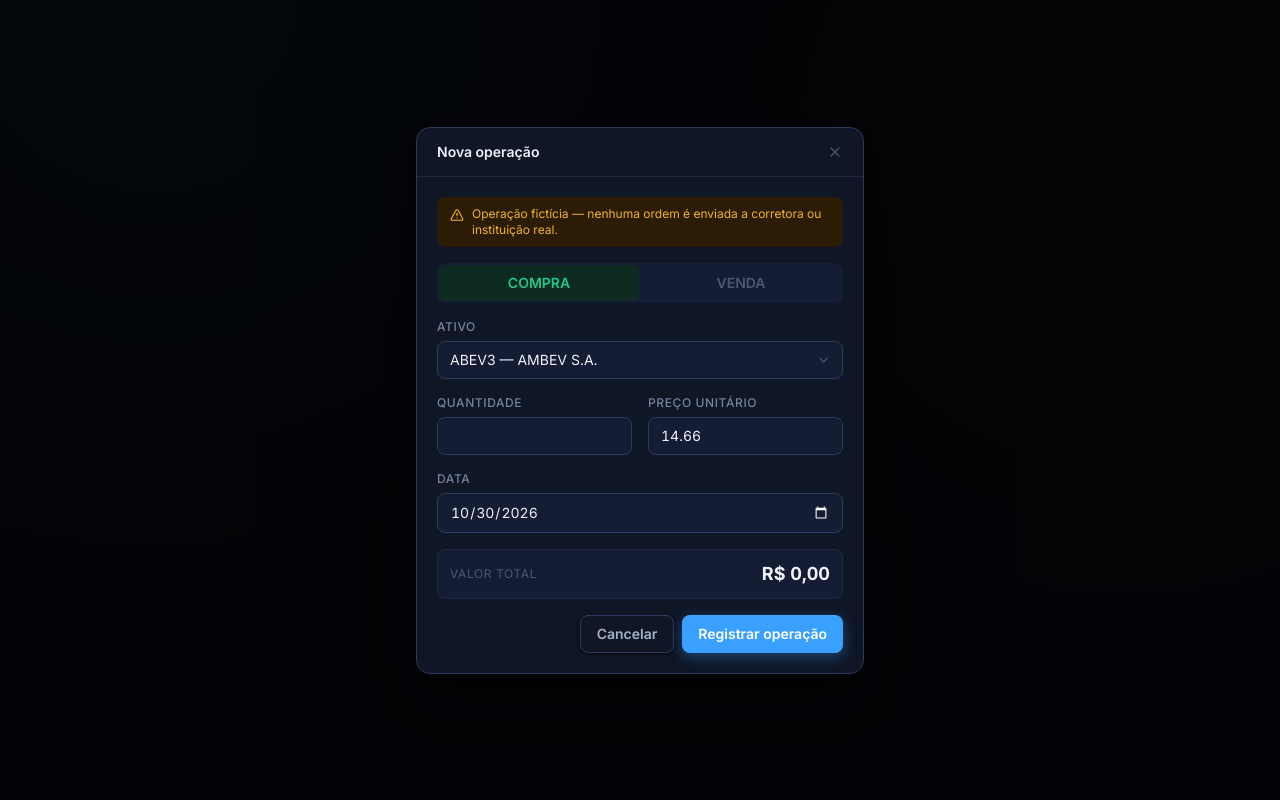
Test: OperationModal › troca o preço ao escolher outro ativo
Expected: the number field labelled "Preço unitário" holds "14.66", [648, 416, 843, 454]
Replace the text in the field labelled "Ativo" with "bitc": (640,360) [437, 340, 843, 378]
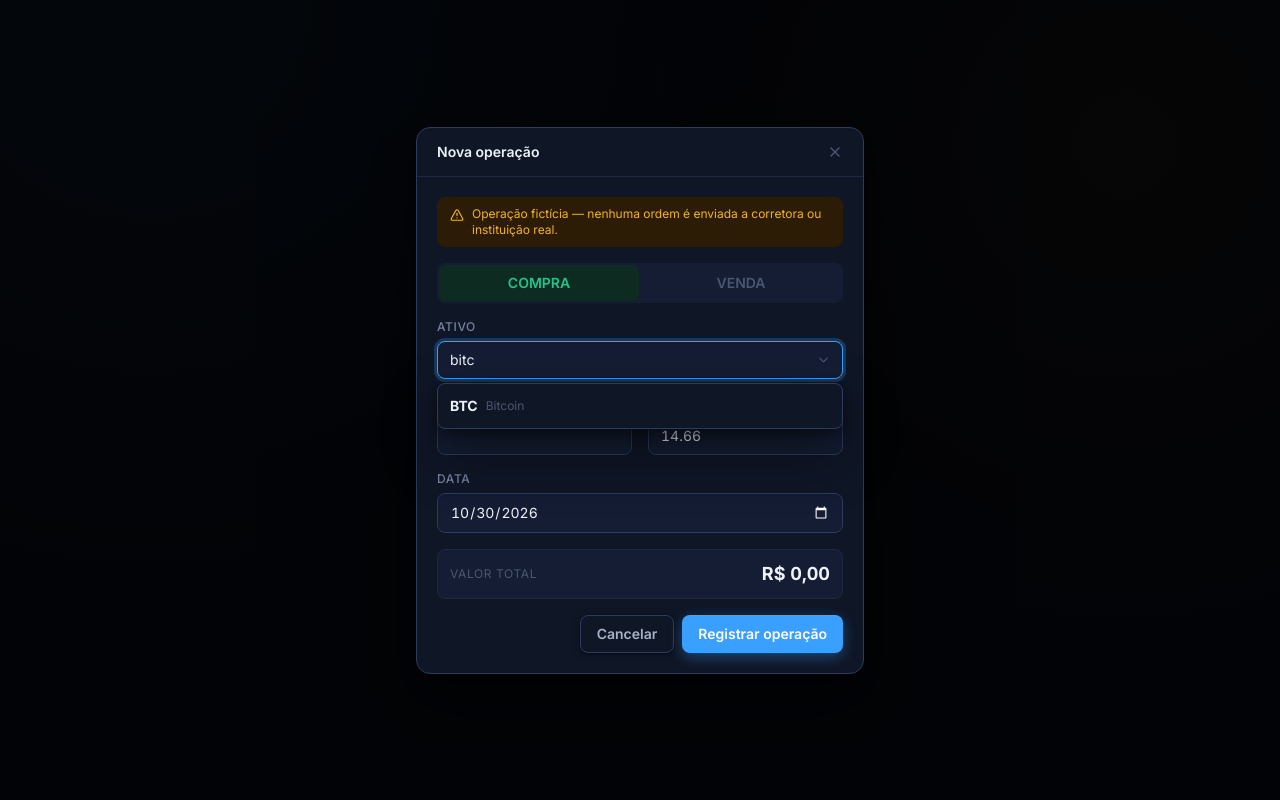
Click the button "BTC Bitcoin": (505,405) [438, 388, 842, 424]
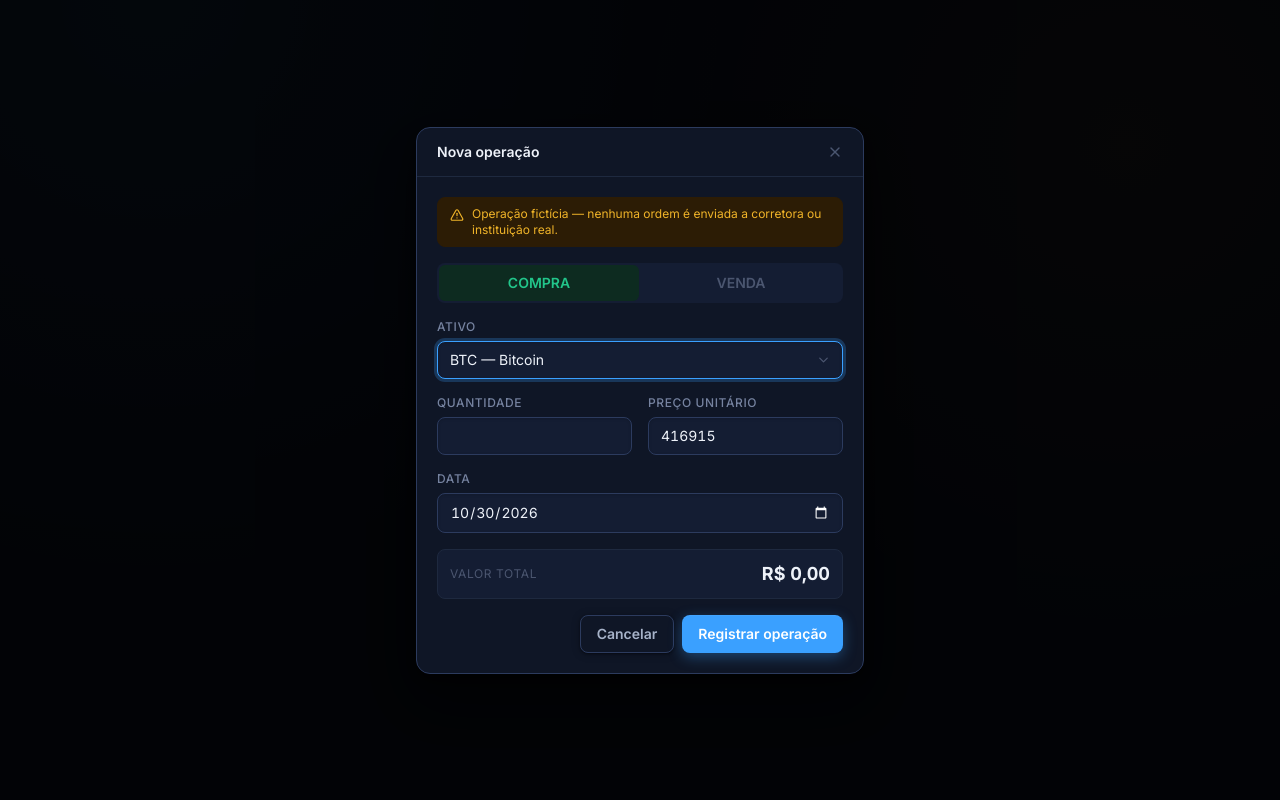
Expected: the number field labelled "Preço unitário" holds "416915", [648, 416, 843, 454]
